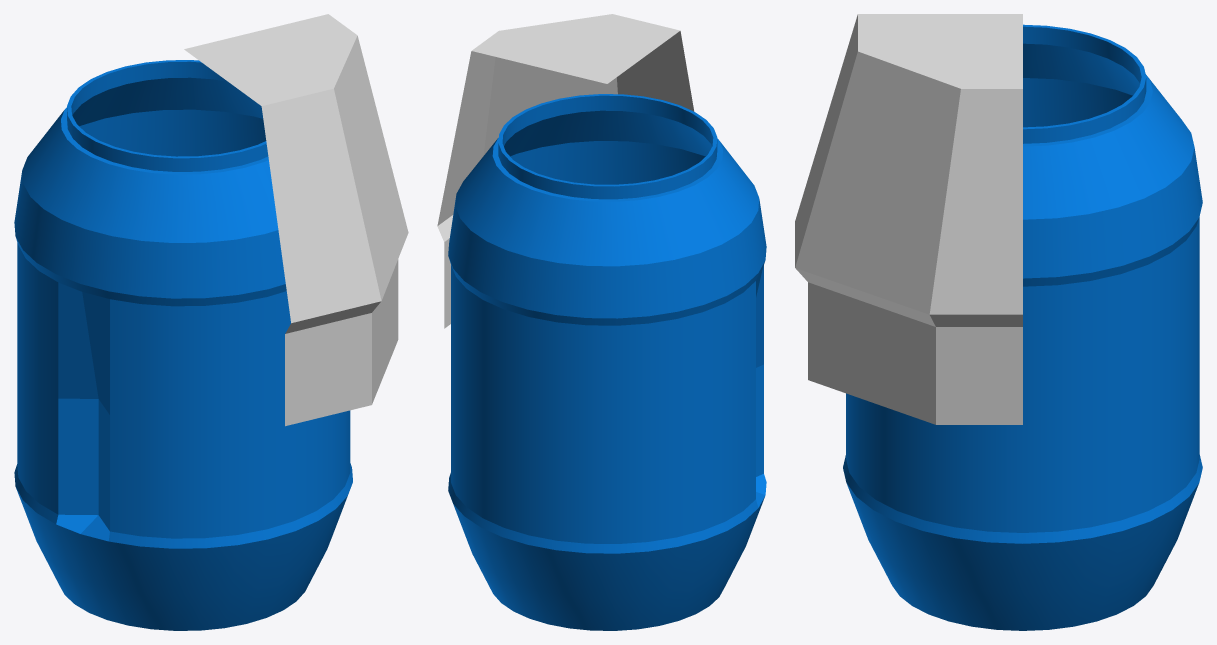
The model's file is blueBarrel.fbx.
The picture shows the model from 3 angles, left to right: view 1: azimuth 30°, elevation 25°; view 2: azimuth 150°, elevation 25°; view 3: azimuth 270°, elevation 25°; orthographic projection. The views are drawn at different scales.
Visible parts, largest first — view 1: Cylinder, Cube; view 2: Cylinder, Cube; view 3: Cylinder, Cube.
Part boxes in pixels (x1,y1,x2,y2): Cylinder: (14, 60, 352, 630); Cube: (184, 14, 408, 426); Cylinder: (448, 94, 766, 630); Cube: (437, 14, 694, 328); Cylinder: (843, 24, 1202, 630); Cube: (795, 14, 1022, 424).
Bounding box in the file's own units: 227 × 349 × 230.
